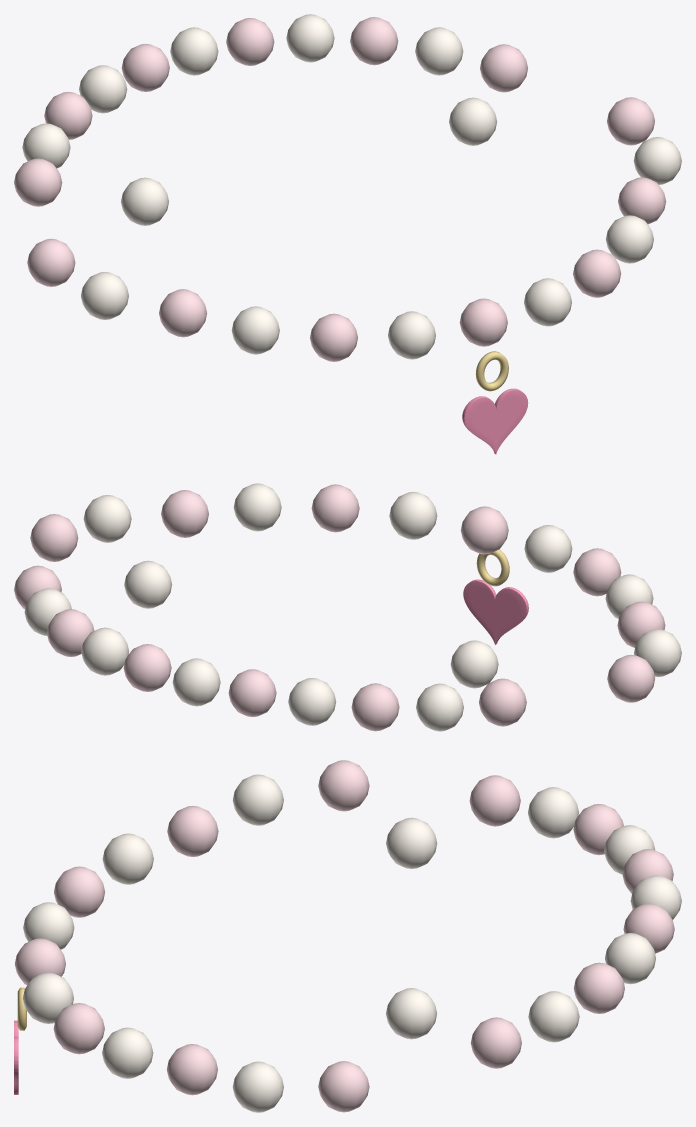
Rendered from necklace_heart_penguin_tailored.glb.
3 views of the same model, one above another, from view 1: azimuth 30°, elevation 25°; view 2: azimuth 150°, elevation 25°; view 3: azimuth 270°, elevation 25° (orthographic). The views are drawn at different scales.
Parts seen in each view (by area): view 1: Corazón bordado.001, Perla.013, Perla.011, Perla.002, Perla.007, Perla.009, Perla, Perla.001, Perla.006, Perla.008, Perla.018, Perla.023 (+16 smaller); view 2: Corazón bordado.001, Perla.017, Perla.007, Perla.016, Perla, Perla.006, Perla.012, Perla.013, Perla.015, Perla.018, Perla.019, Perla.020 (+16 smaller); view 3: Perla.018, Perla.003, Perla.020, Perla.007, Perla.008, Perla.002, Perla.004, Perla.005, Perla.009, Perla.021, Perla.023, Perla.010 (+14 smaller).
Part boxes in pixels (box(x1,y1,x2,y2)): Corazón bordado.001: box(462, 388, 528, 454); Perla.013: box(170, 27, 218, 75); Perla.011: box(286, 14, 334, 62); Perla.002: box(573, 249, 621, 297); Perla.007: box(449, 97, 497, 145); Perla.009: box(415, 27, 463, 75); Perla: box(459, 298, 507, 346); Perla.001: box(524, 278, 571, 326); Perla.006: box(607, 97, 654, 145); Perla.008: box(480, 44, 527, 92); Perla.018: box(14, 158, 62, 206); Perla.023: box(231, 306, 279, 354); Corazón bordado.001: box(463, 579, 528, 644); Perla.017: box(416, 683, 463, 731); Perla.007: box(124, 560, 172, 608); Perla.016: box(351, 683, 399, 731); Perla: box(460, 506, 508, 554); Perla.006: box(30, 514, 78, 561); Perla.012: box(123, 644, 171, 691); Perla.013: box(172, 658, 220, 706); Perla.015: box(288, 678, 336, 725); Perla.018: box(479, 678, 526, 726); Perla.019: box(450, 640, 498, 688); Perla.020: box(607, 654, 655, 702); Perla.018: box(469, 775, 520, 826); Perla.003: box(102, 1027, 153, 1078); Perla.020: box(318, 760, 369, 811); Perla.007: box(386, 988, 437, 1039); Perla.008: box(470, 1017, 521, 1068); Perla.002: box(53, 1003, 104, 1054); Perla.004: box(166, 1044, 217, 1095); Perla.005: box(232, 1061, 283, 1112); Perla.009: box(528, 991, 579, 1042); Perla.021: box(232, 774, 283, 825); Perla.023: box(102, 833, 153, 884); Perla.010: box(573, 962, 624, 1013).
Bounding box in the file's own units: 0.5052 × 0.1586 × 0.4421.
